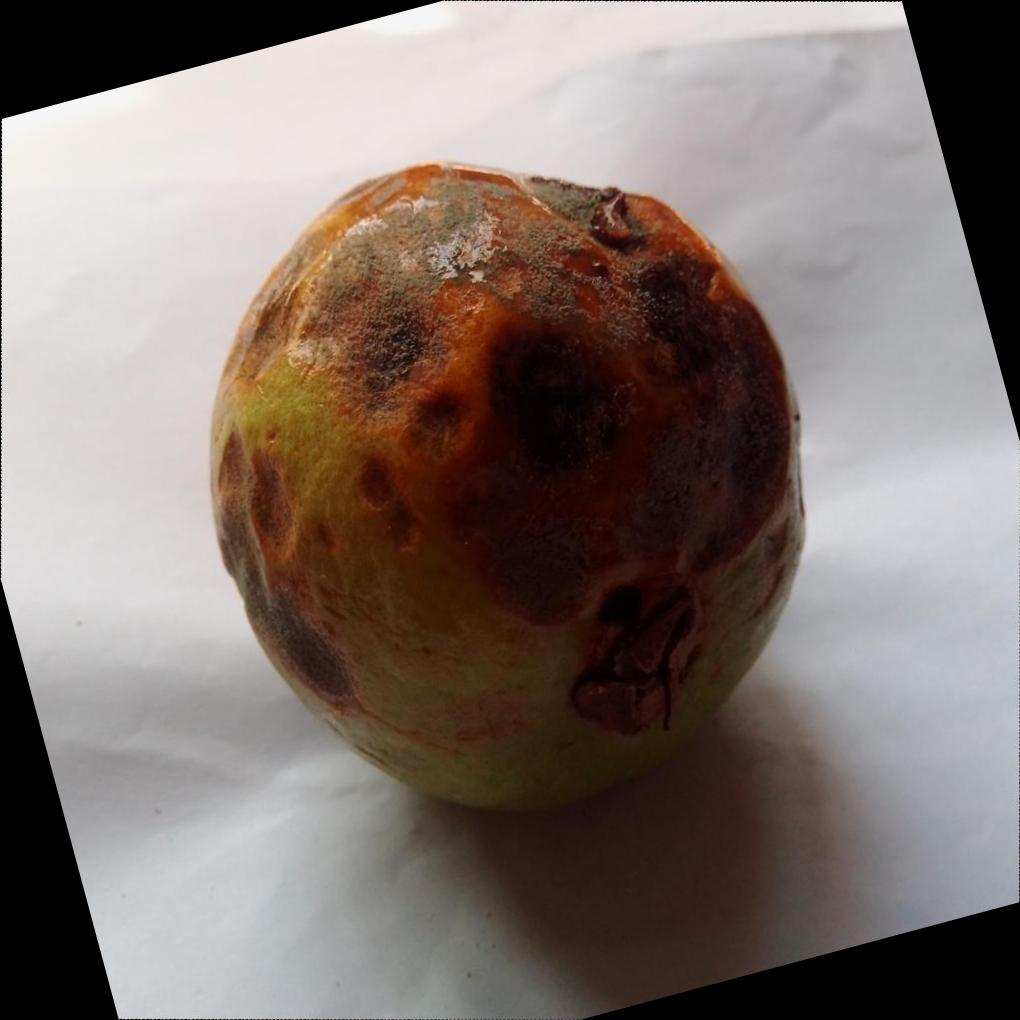FreshOrange: (207, 162, 809, 820)
